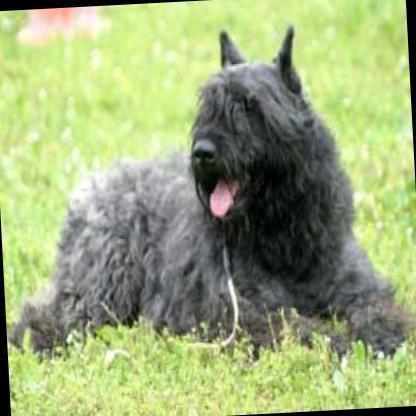Bouvier_des_Flandres: (0, 13, 416, 391)
